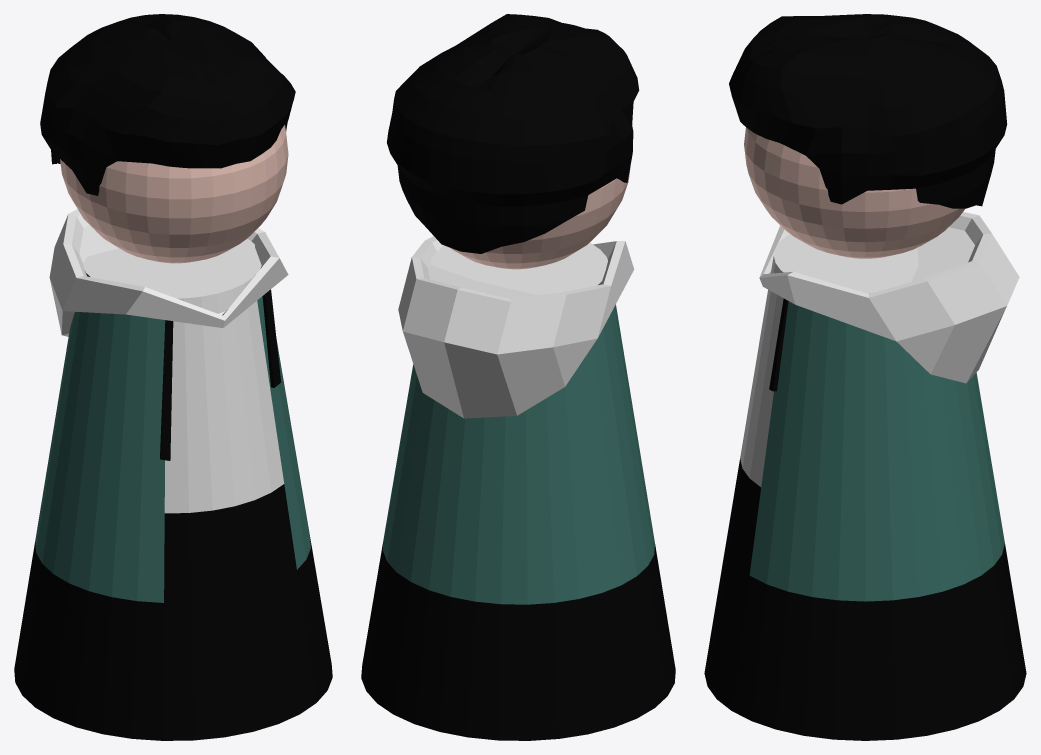
The model's file is char_phong.fbx.
3 views of the same model, side by side, from view 1: azimuth 30°, elevation 25°; view 2: azimuth 150°, elevation 25°; view 3: azimuth 270°, elevation 25° (orthographic). The views are drawn at different scales.
Parts seen in each view (by area): view 1: Body.005, Hair.003, Head.005, Hoodie; view 2: Body.005, Hair.003, Hoodie, Head.005; view 3: Body.005, Hair.003, Hoodie, Head.005.
Part boxes in pixels (<box>): Body.005: <box>14,238,332,740</box>; Hair.003: <box>40,14,295,195</box>; Head.005: <box>60,125,288,263</box>; Hoodie: <box>49,209,288,460</box>; Body.005: <box>361,242,675,740</box>; Hair.003: <box>386,14,639,253</box>; Hoodie: <box>398,236,634,418</box>; Head.005: <box>450,166,630,269</box>; Body.005: <box>704,234,1026,740</box>; Hair.003: <box>729,14,1007,208</box>; Hoodie: <box>759,212,1019,391</box>; Head.005: <box>744,127,964,258</box>.
Size of the model in its own units: 0.6921 by 1.53 by 0.6921.
